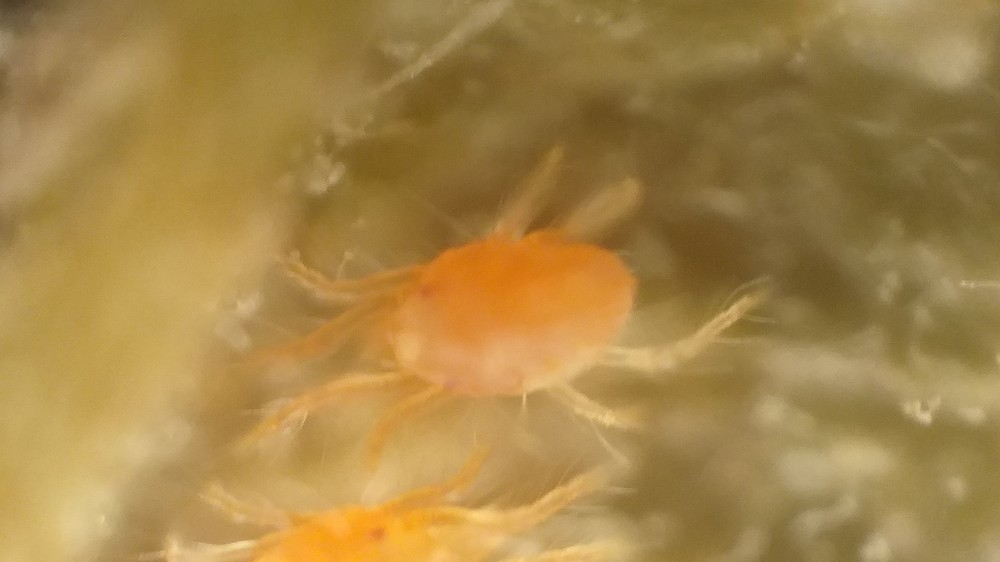Aracnido Rojo: (240, 146, 818, 423), (169, 452, 682, 562)
